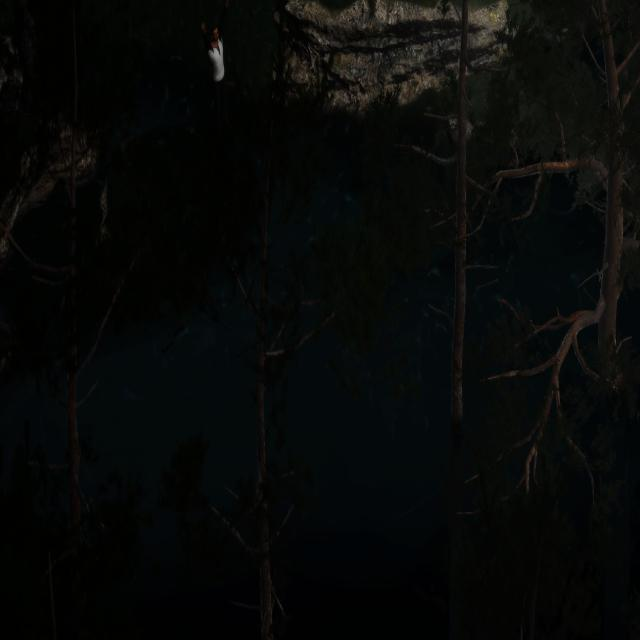Human: (198, 1, 228, 161)
